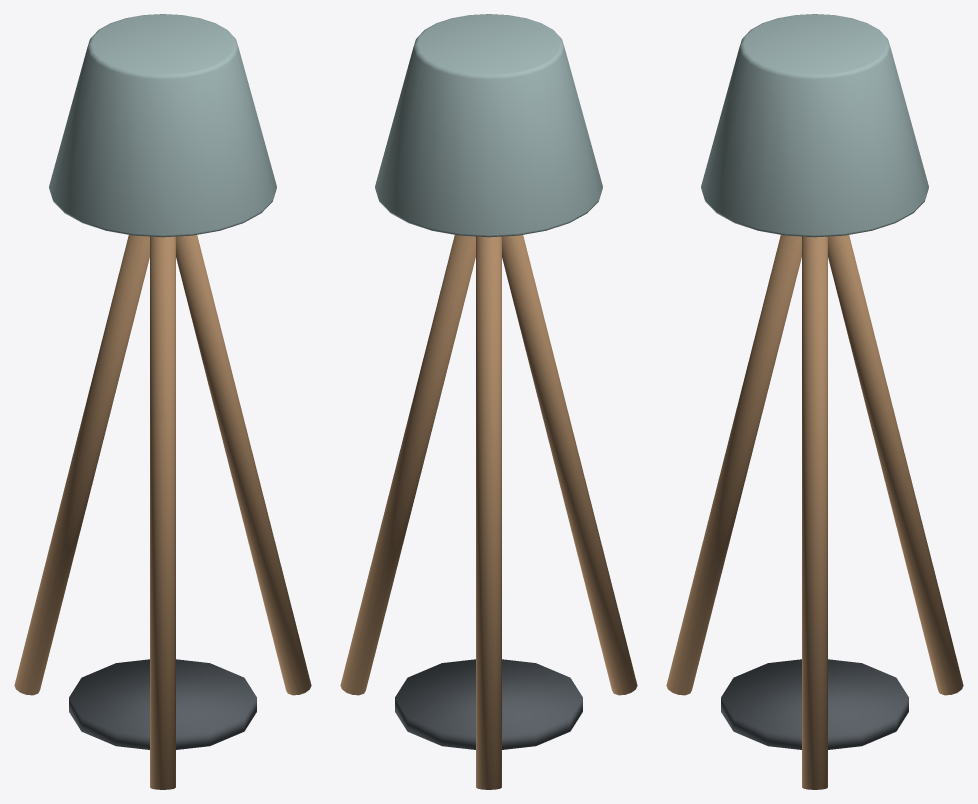
Rendered from atelier-tripod-floor-lamp.glb.
The picture shows the model from 3 angles, left to right: view 1: azimuth 30°, elevation 25°; view 2: azimuth 150°, elevation 25°; view 3: azimuth 270°, elevation 25°; orthographic projection.
Parts seen in each view (by area): view 1: fabric.063, legs.133, metal.070; view 2: fabric.063, legs.133, metal.070; view 3: fabric.063, legs.133, metal.070.
Boxes of the visible parts, x1,y1,x2,y2 form: fabric.063: (49, 14, 276, 237); legs.133: (14, 235, 311, 789); metal.070: (69, 659, 256, 749); fabric.063: (375, 14, 602, 237); legs.133: (340, 235, 637, 789); metal.070: (395, 659, 582, 749); fabric.063: (701, 14, 928, 237); legs.133: (666, 235, 963, 789); metal.070: (721, 659, 908, 749).
Bounding box in the file's own units: 0.5425 × 1.44 × 0.5685.
